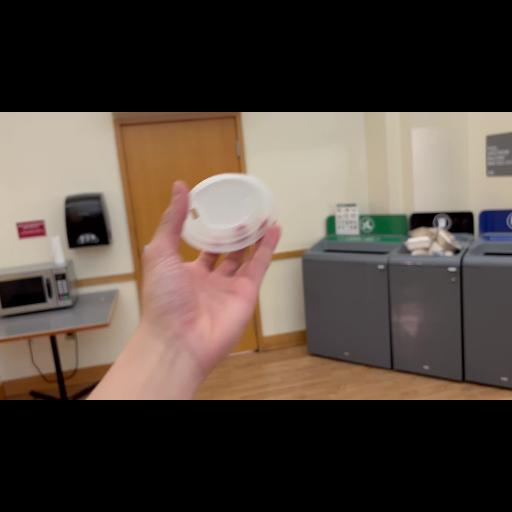lp_cup_lids: (164, 171, 282, 263)
